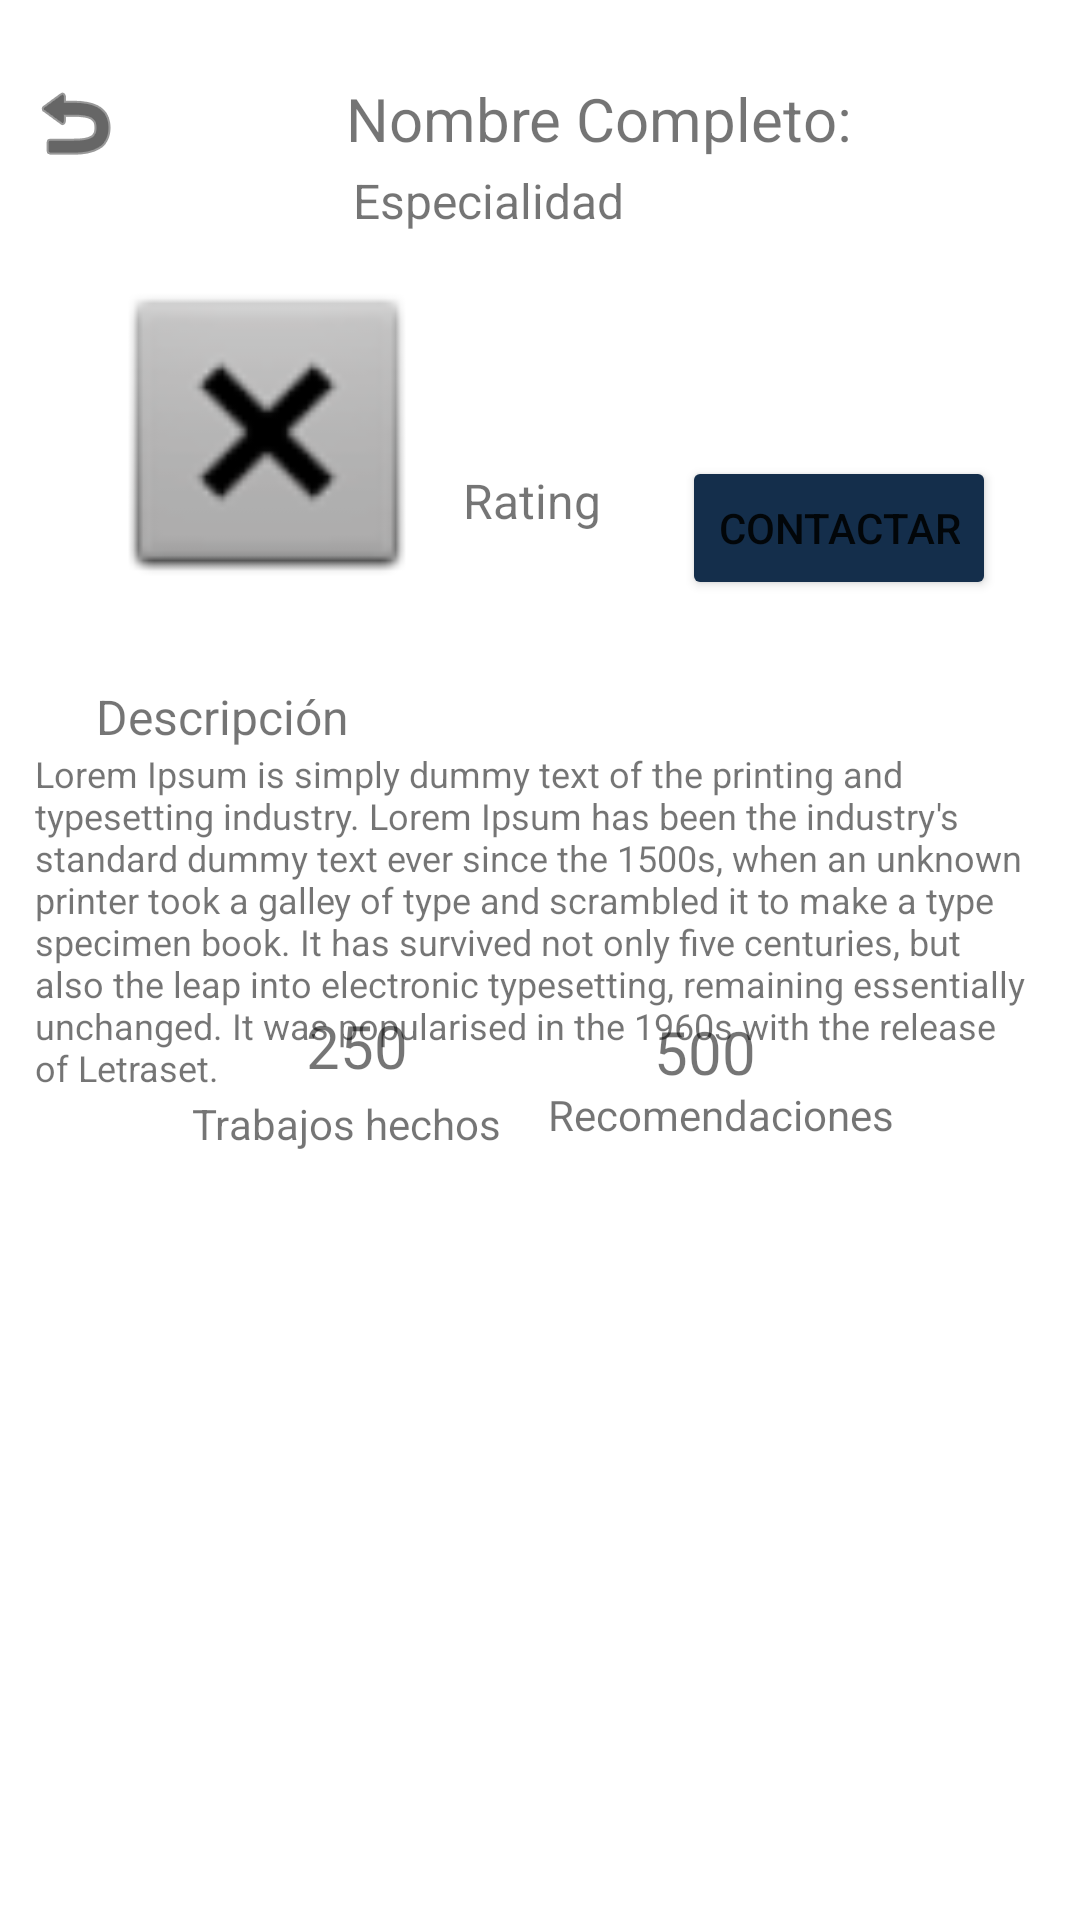

Where icons sit on this 1080px x 1920px app screen, as bbox=(x1, y1, x2, y2):
Button to previous page: bbox=(42, 92, 111, 155)
